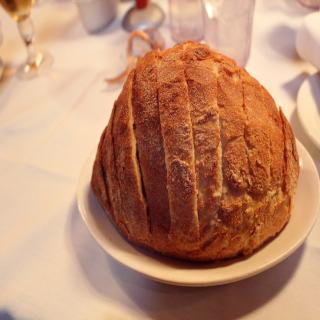Bread: (89, 41, 303, 254)
